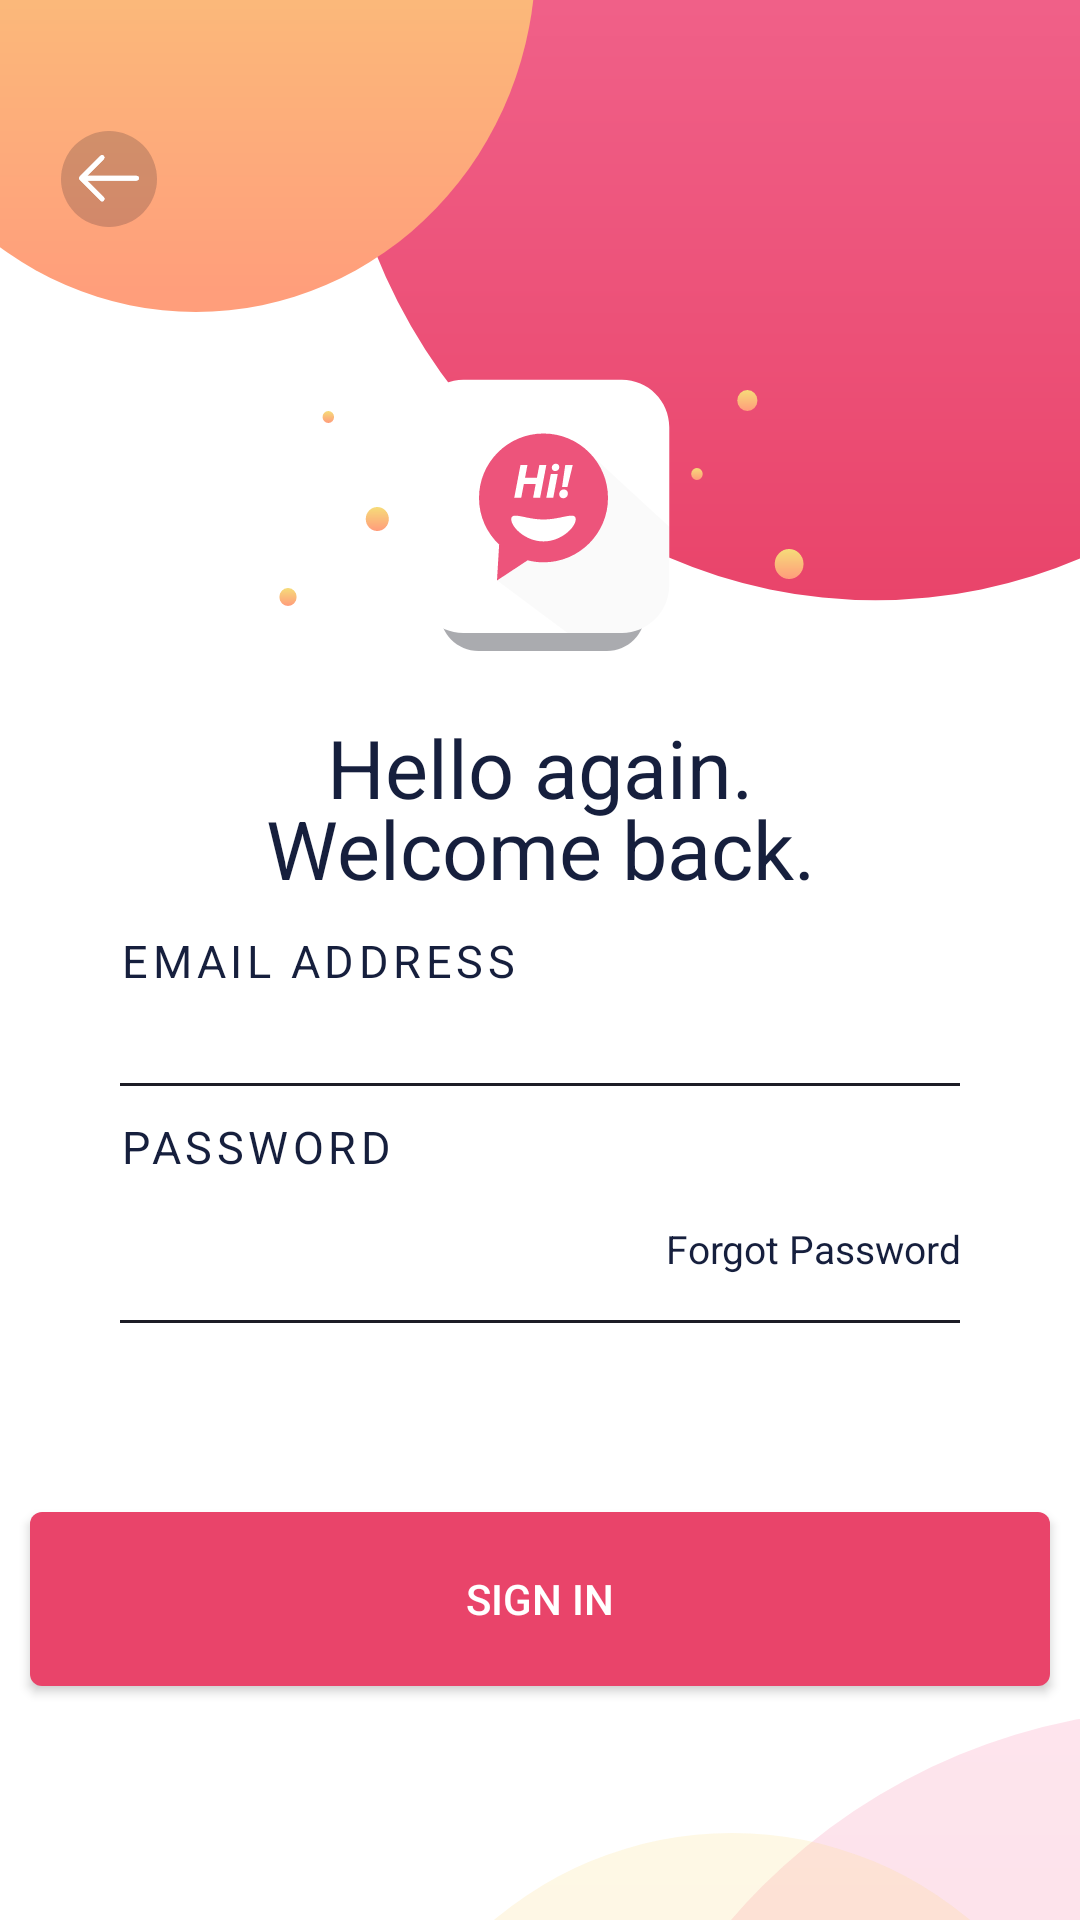

Named icons in this screenshot (1080px×1920px) and their centers, (x,y):
back: (109,179)
